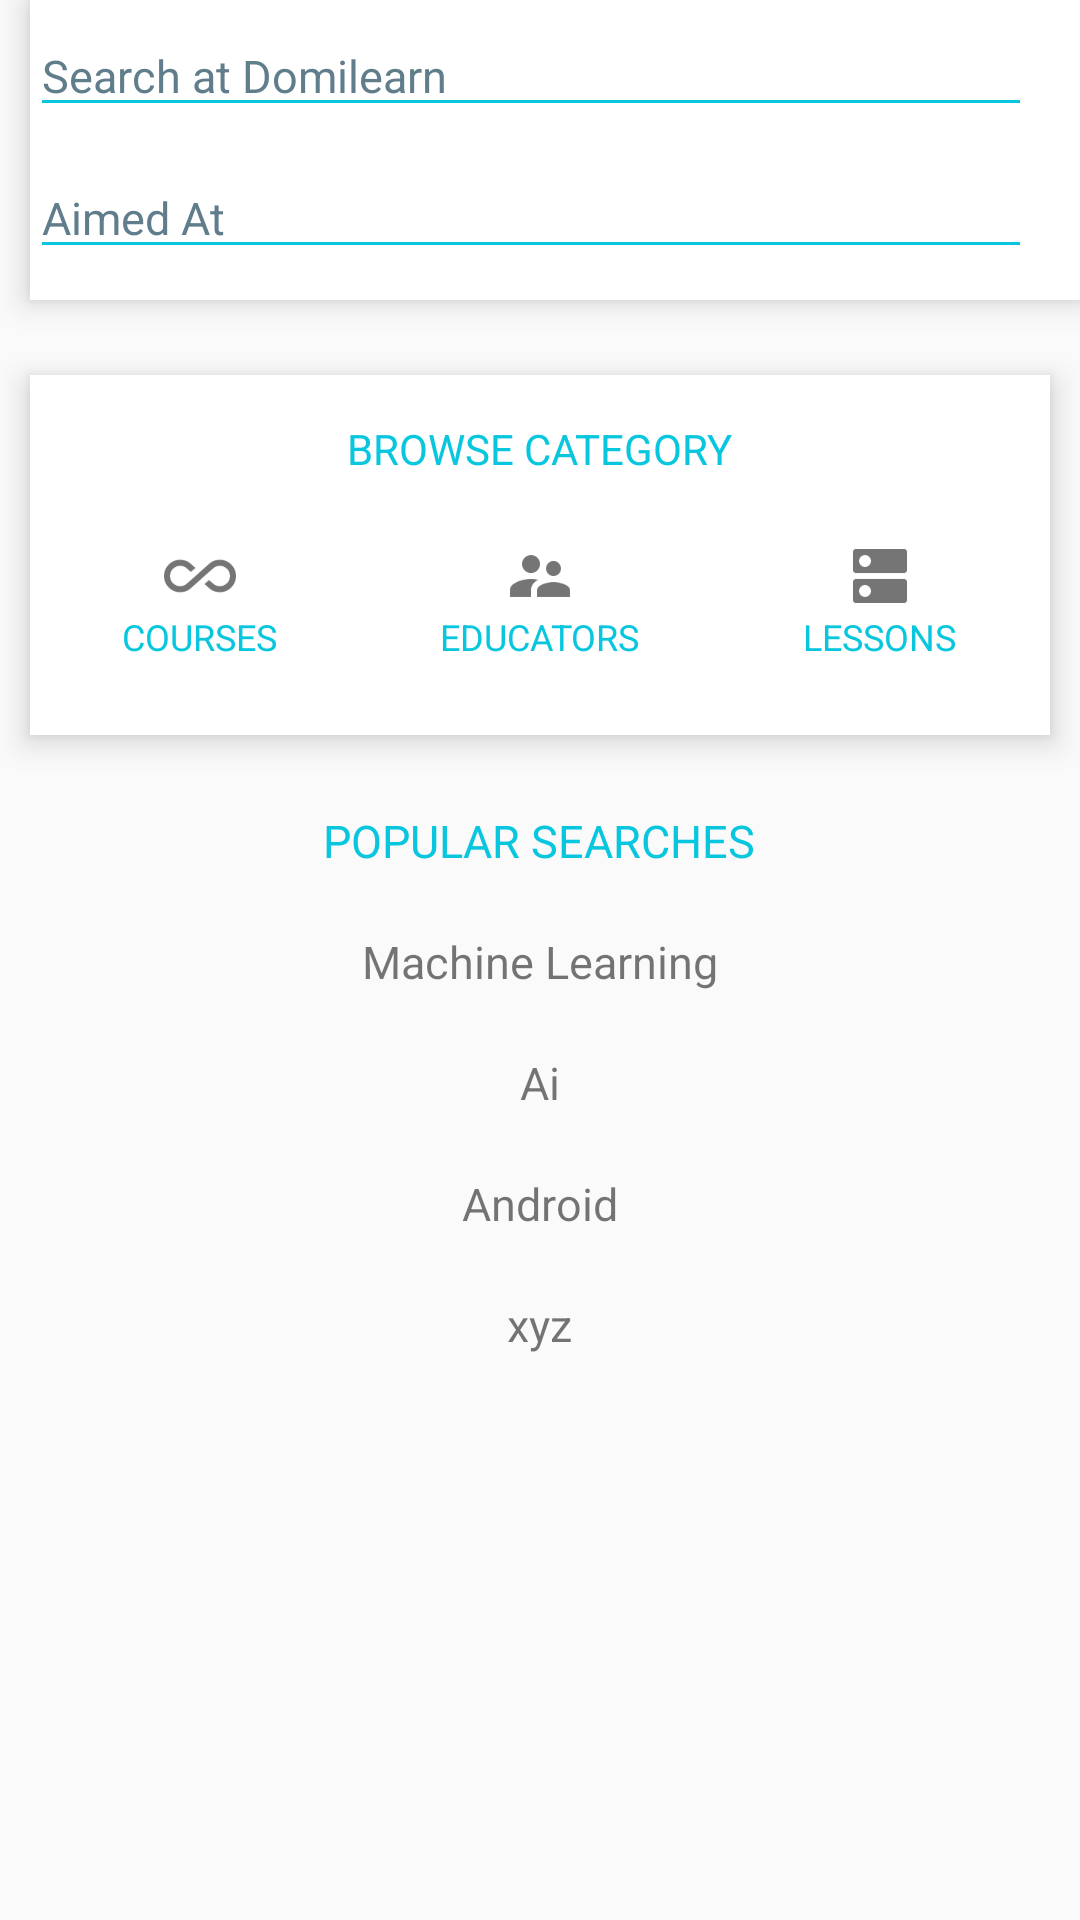

Icons on this 1080 × 1920 Android screen, each with its box as (x1, y1, x2, y2):
all inclusive: (164, 559, 236, 593)
supervisor account: (510, 555, 570, 597)
